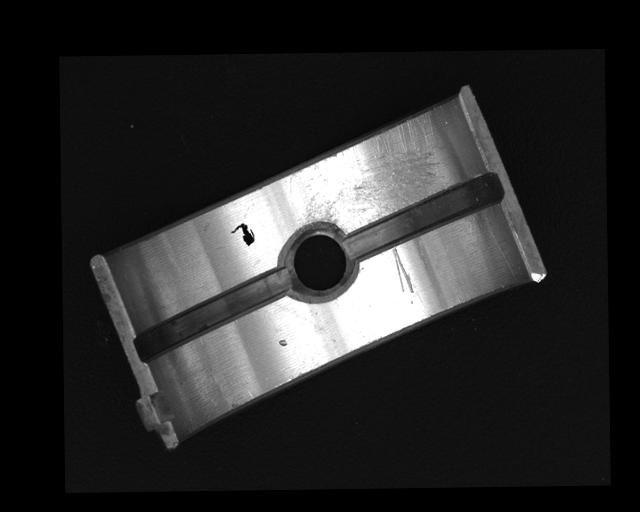blot: (230, 222, 255, 247)
bruise: (277, 338, 288, 347)
gap: (133, 265, 296, 361), (345, 173, 503, 259)
hole: (279, 221, 357, 299)
nick: (392, 245, 415, 295)
scratch: (294, 110, 440, 227)
